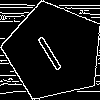I: (28, 26, 65, 73)
